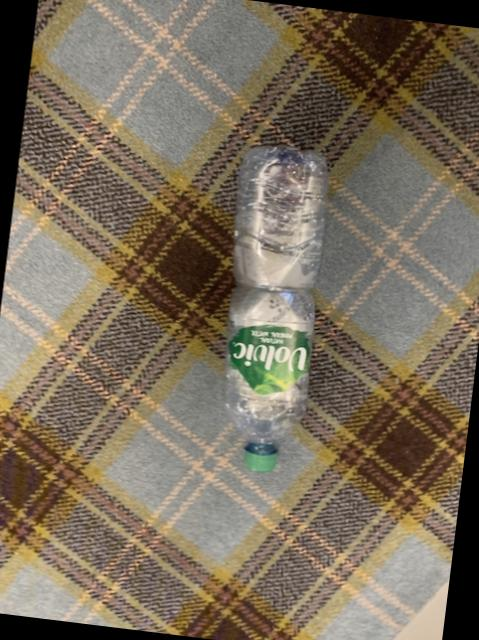plastic: (225, 146, 328, 472)
